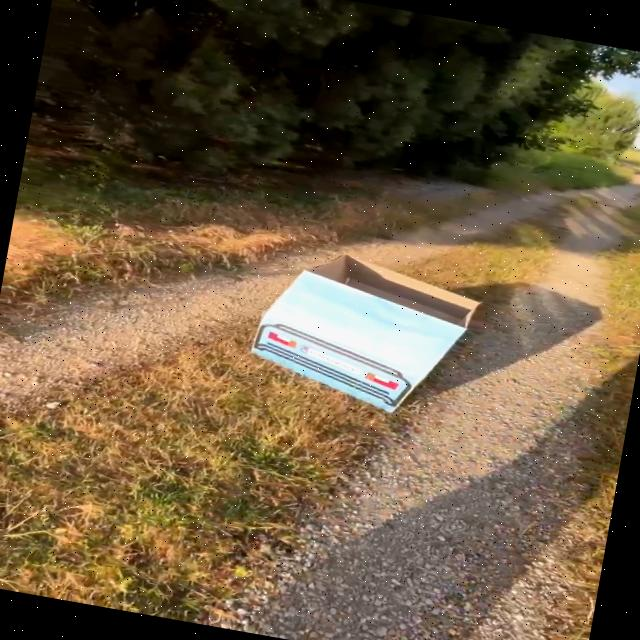blue_car: (194, 207, 517, 456)
